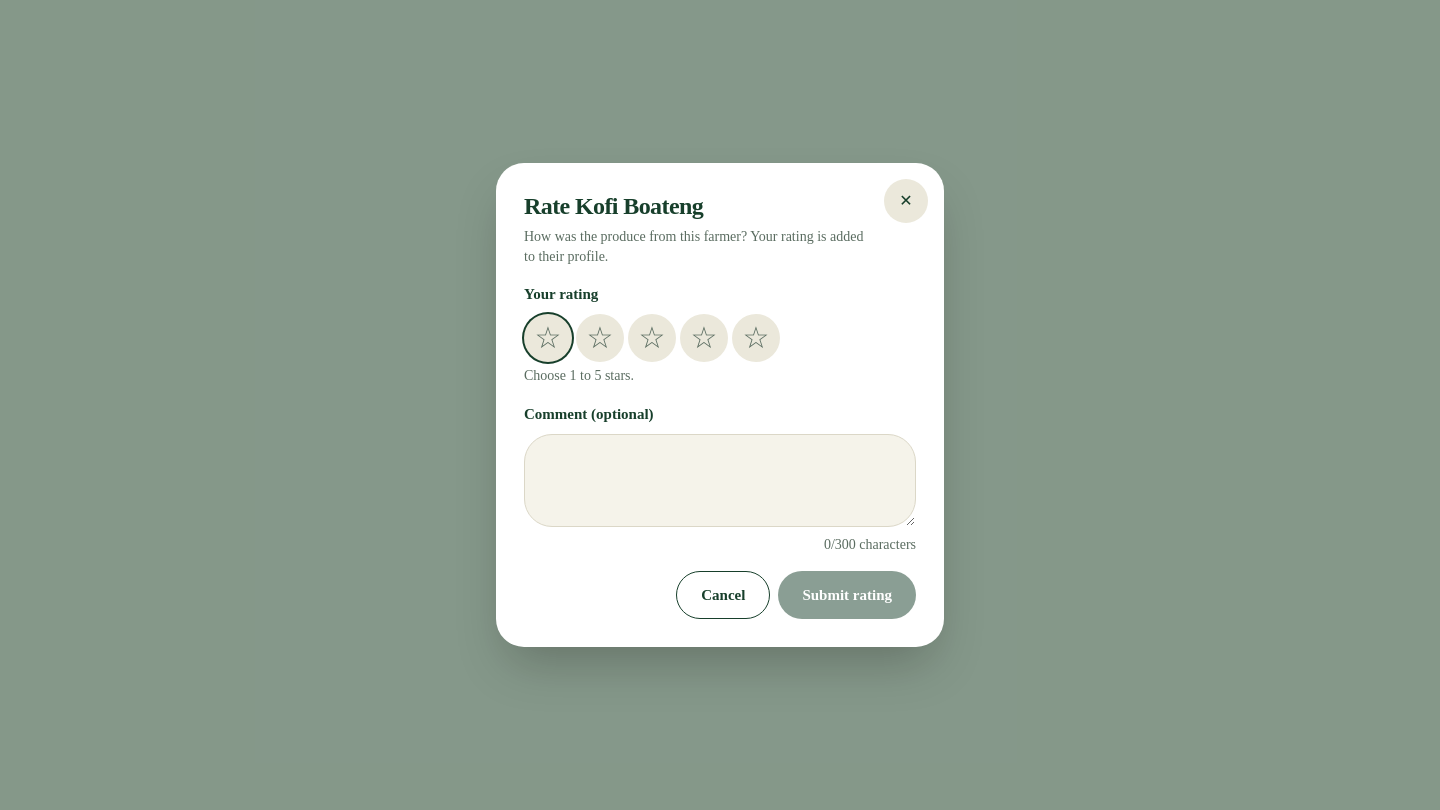
Test: RateFarmerModal › keeps Submit disabled until a star is chosen, and describes the choice
Check: the dialog "Rate Kofi Boateng" is shown, box x1=496 y1=163 x2=944 y2=647
Check: the button "Submit rating" is disabled, box x1=778 y1=571 x2=916 y2=619
Click the radio button named "4 stars": [704, 338] box x1=680 y1=314 x2=728 y2=362
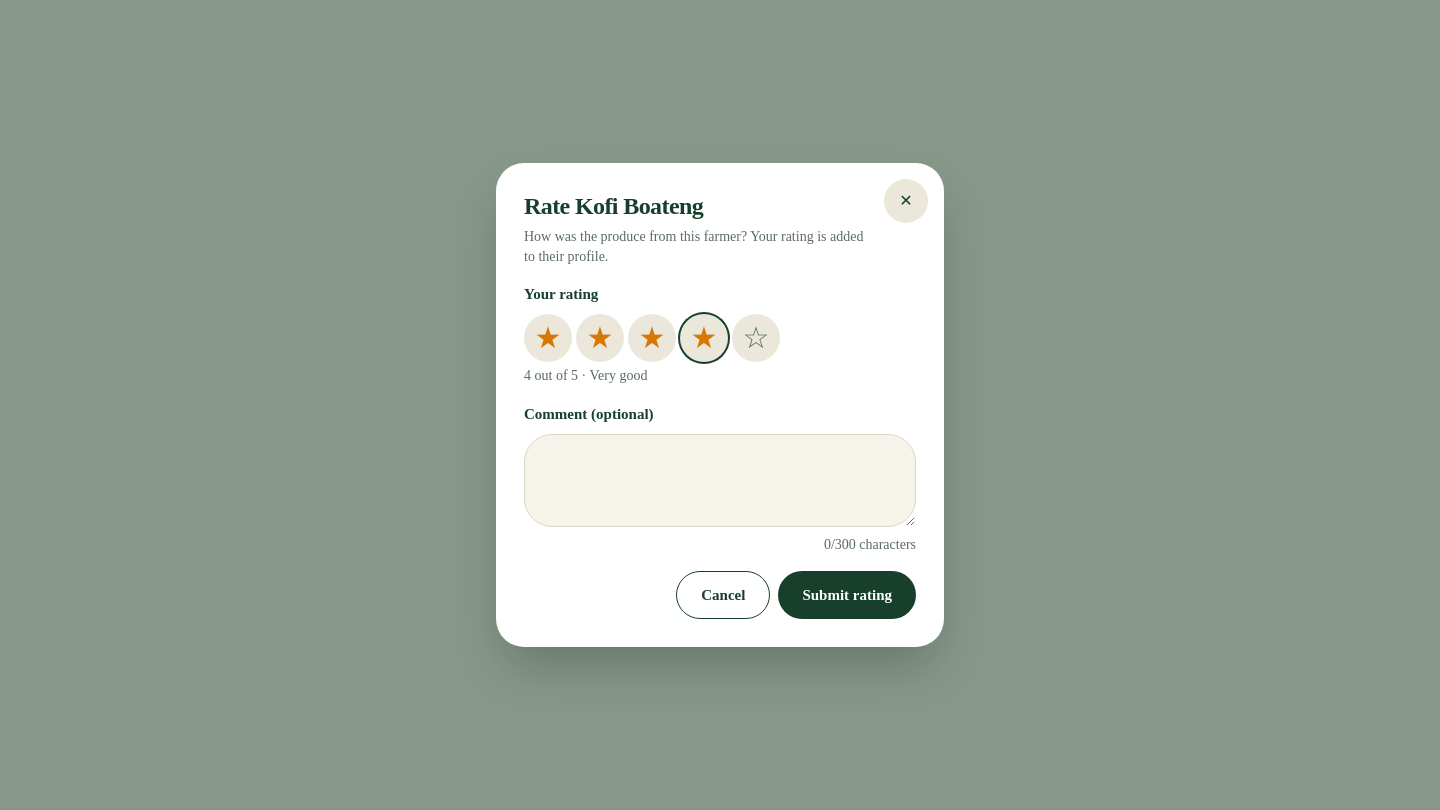
Check: the radio button named "4 stars" is checked, box x1=680 y1=314 x2=728 y2=362
Check: the text "4 out of 5 · Very good" is shown, box x1=524 y1=368 x2=647 y2=382
Check: the button "Submit rating" is enabled, box x1=778 y1=571 x2=916 y2=619
